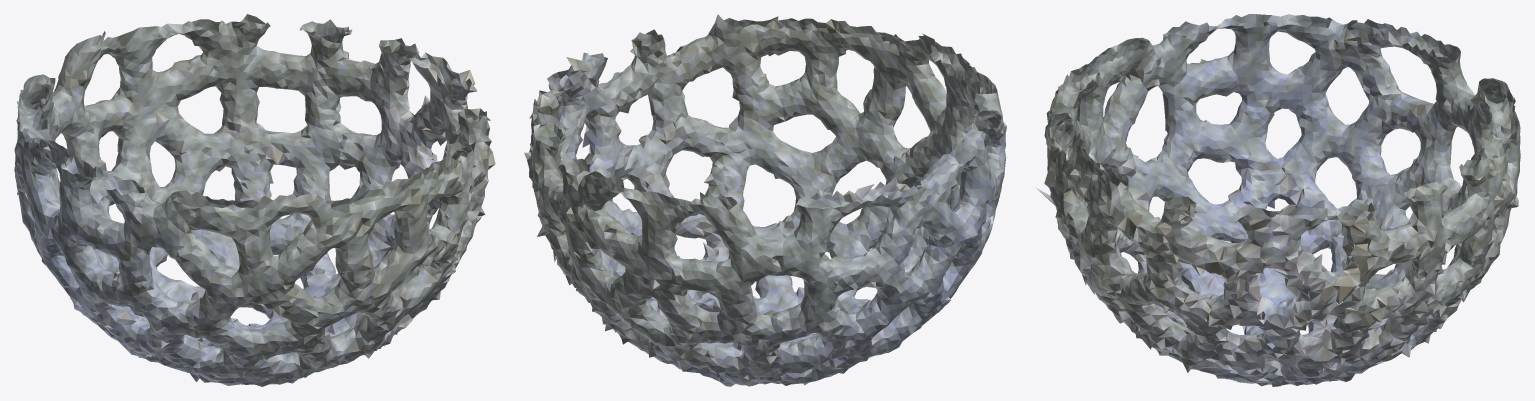
3 renders of one model, left to right at view 1: azimuth 30°, elevation 25°; view 2: azimuth 150°, elevation 25°; view 3: azimuth 270°, elevation 25°, orthographic.
Bounding box in the file's own units: 2.01 × 1.19 × 2.03.
